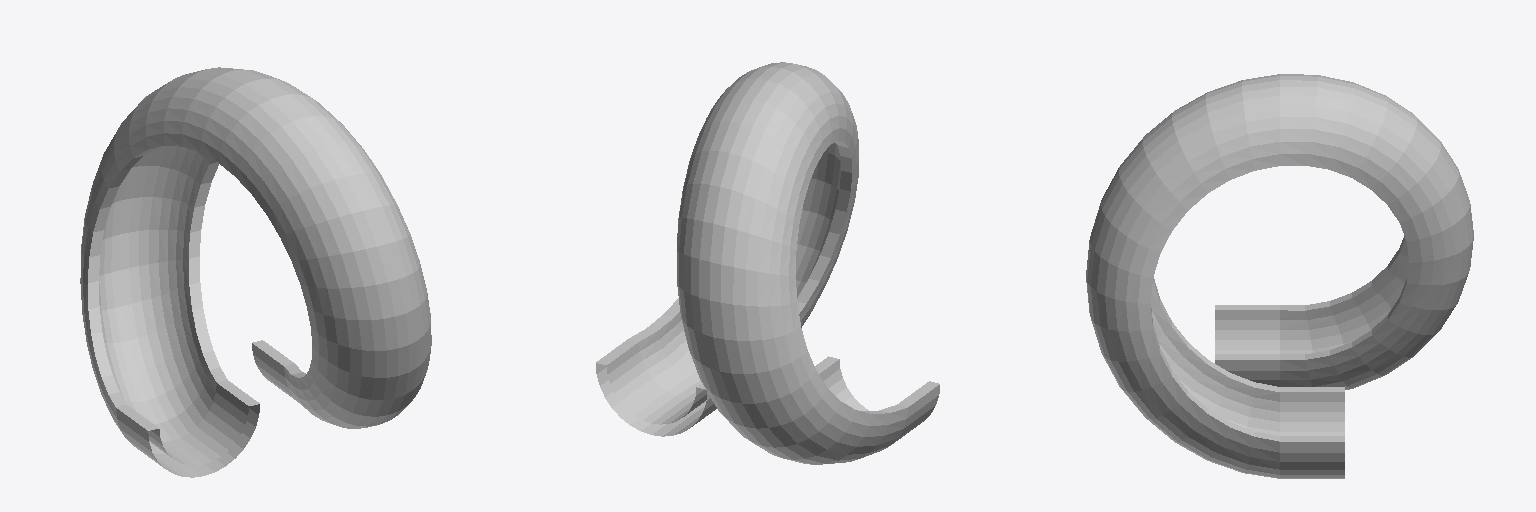
File: looping.obj
3 views of the same model, side by side, from view 1: azimuth 30°, elevation 25°; view 2: azimuth 150°, elevation 25°; view 3: azimuth 270°, elevation 25° (orthographic).
Visible parts, largest first — view 1: Looping_Circle.011; view 2: Looping_Circle.011; view 3: Looping_Circle.011.
Part boxes in pixels (x1,y1,x2,y2): Looping_Circle.011: (80, 67, 431, 477); Looping_Circle.011: (596, 62, 939, 464); Looping_Circle.011: (1086, 74, 1473, 478).
Bounding box in the file's own units: 5 × 6 × 6.